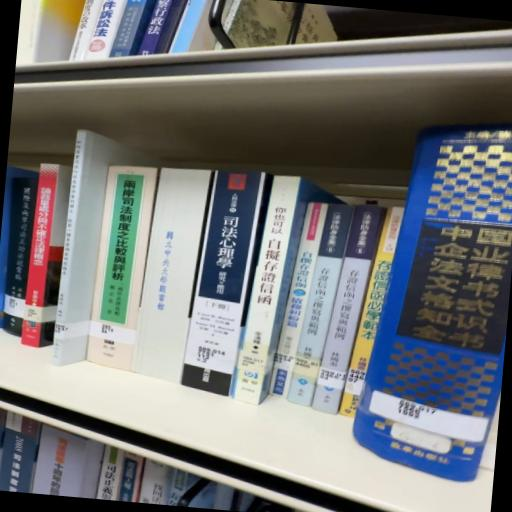backward: (131, 172, 212, 391)
book: (183, 174, 271, 407), (308, 193, 385, 418)
